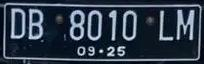0: (118, 8, 140, 42), (86, 9, 104, 42)
1: (106, 9, 119, 42)
8: (68, 8, 86, 42)
B: (26, 7, 47, 39)
D: (9, 6, 26, 40)
L: (156, 8, 175, 42)
M: (175, 8, 197, 42)
